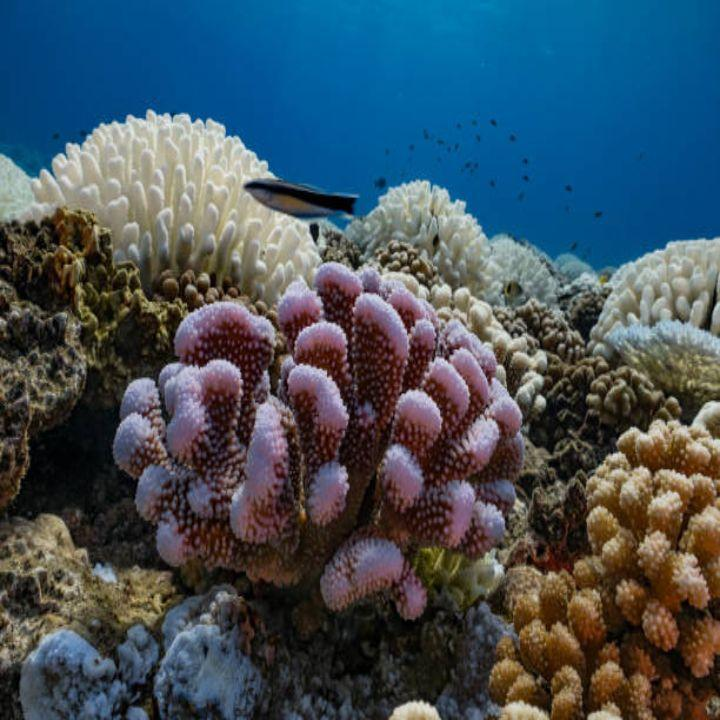Bleached disease: (44, 118, 317, 288), (373, 180, 691, 299)
Healthy Coral: (125, 320, 719, 691)
